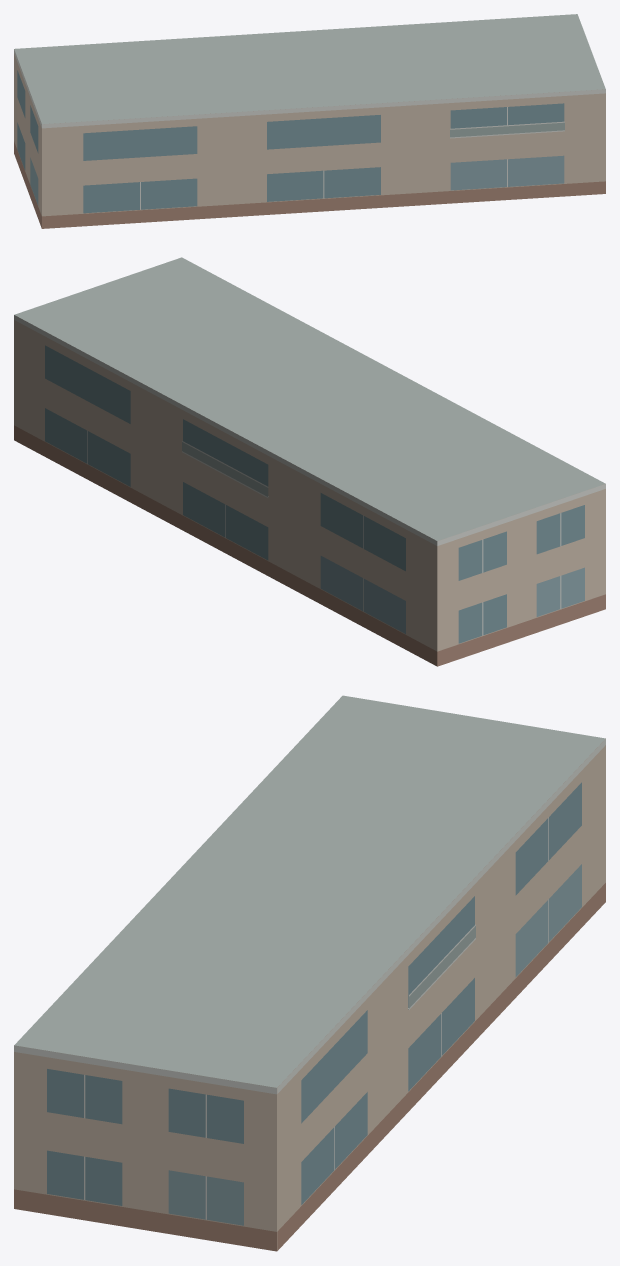
Rendered from survey-upis-32596163.glb.
The picture shows the model from 3 angles, top to bottom: view 1: azimuth 30°, elevation 25°; view 2: azimuth 150°, elevation 25°; view 3: azimuth 270°, elevation 25°; orthographic projection. The views are drawn at different scales.
Visible parts, largest first — view 1: survey-upis-32596163.tmp; view 2: survey-upis-32596163.tmp; view 3: survey-upis-32596163.tmp.
Boxes of the visible parts, x1,y1,x2,y2 form: survey-upis-32596163.tmp: (14,14,605,228); survey-upis-32596163.tmp: (14,257,605,666); survey-upis-32596163.tmp: (14,695,605,1251).
Size of the model in its own units: 31.4 by 6.1 by 20.01.
